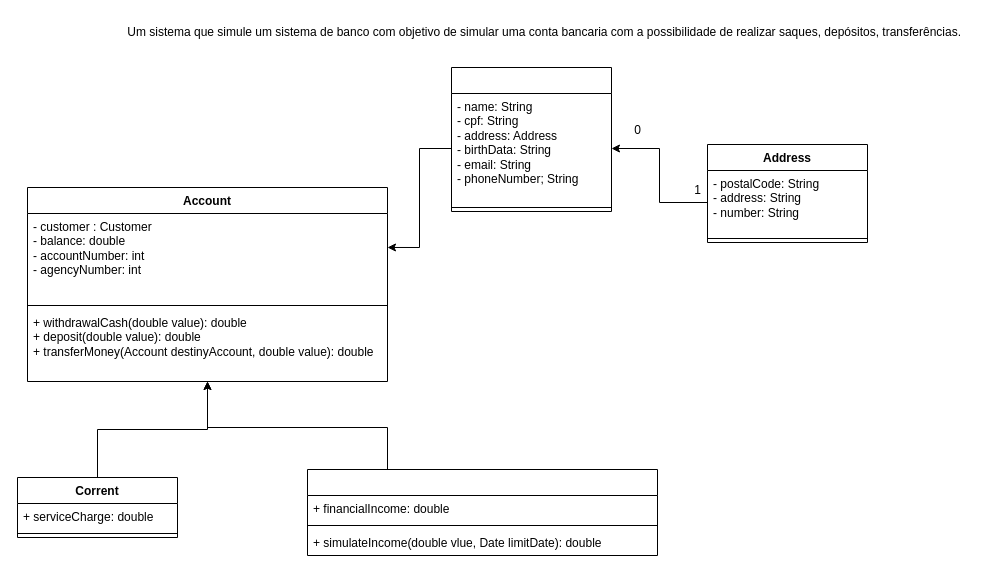
Image size: 995x575. Some labels were removed from this diagram. Each missing label, with the box of its shape:
Customer: (450, 66, 612, 212)
Saving: (306, 468, 658, 556)
